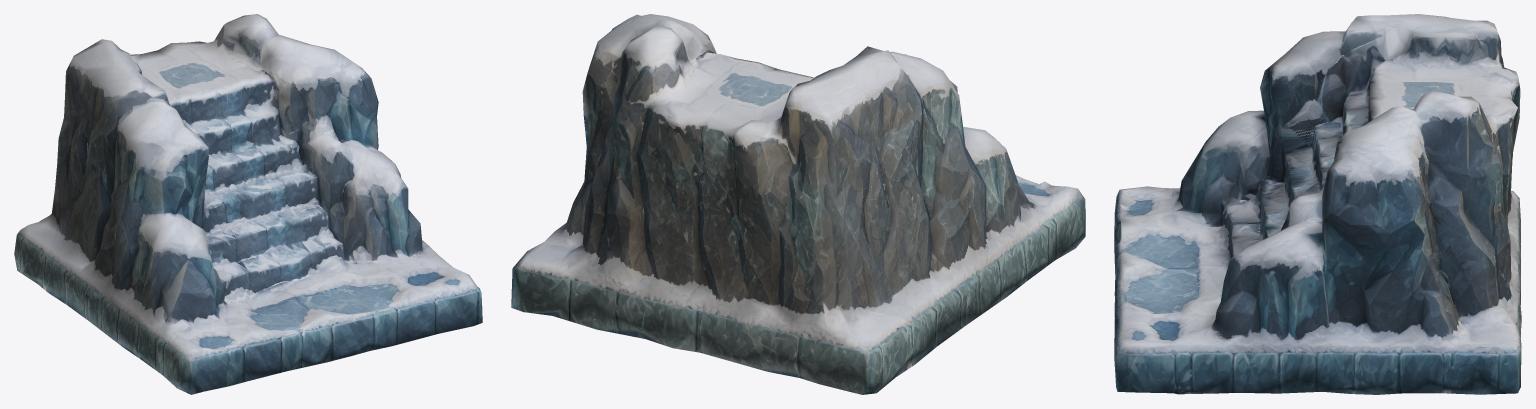
Rendered from Tile_Ice_StairsUp.fbx.
3 views of the same model, side by side, from view 1: azimuth 30°, elevation 25°; view 2: azimuth 150°, elevation 25°; view 3: azimuth 270°, elevation 25° (orthographic). The views are drawn at different scales.
Visible parts, largest first — view 1: texture_mapping; view 2: texture_mapping; view 3: texture_mapping.
Part boxes in pixels (left/top/right/bottom): texture_mapping: left=14, top=14, right=482, bottom=394; texture_mapping: left=511, top=14, right=1085, bottom=394; texture_mapping: left=1114, top=14, right=1521, bottom=394.
Bounding box in the file's own units: 0.9667 × 1 × 0.7077.
1 material, 1 textured.
